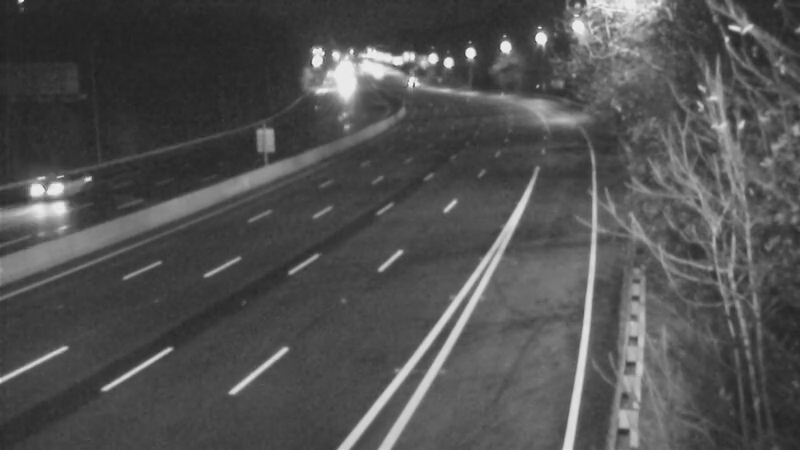vehicle: (7, 147, 87, 227), (380, 56, 430, 106)
